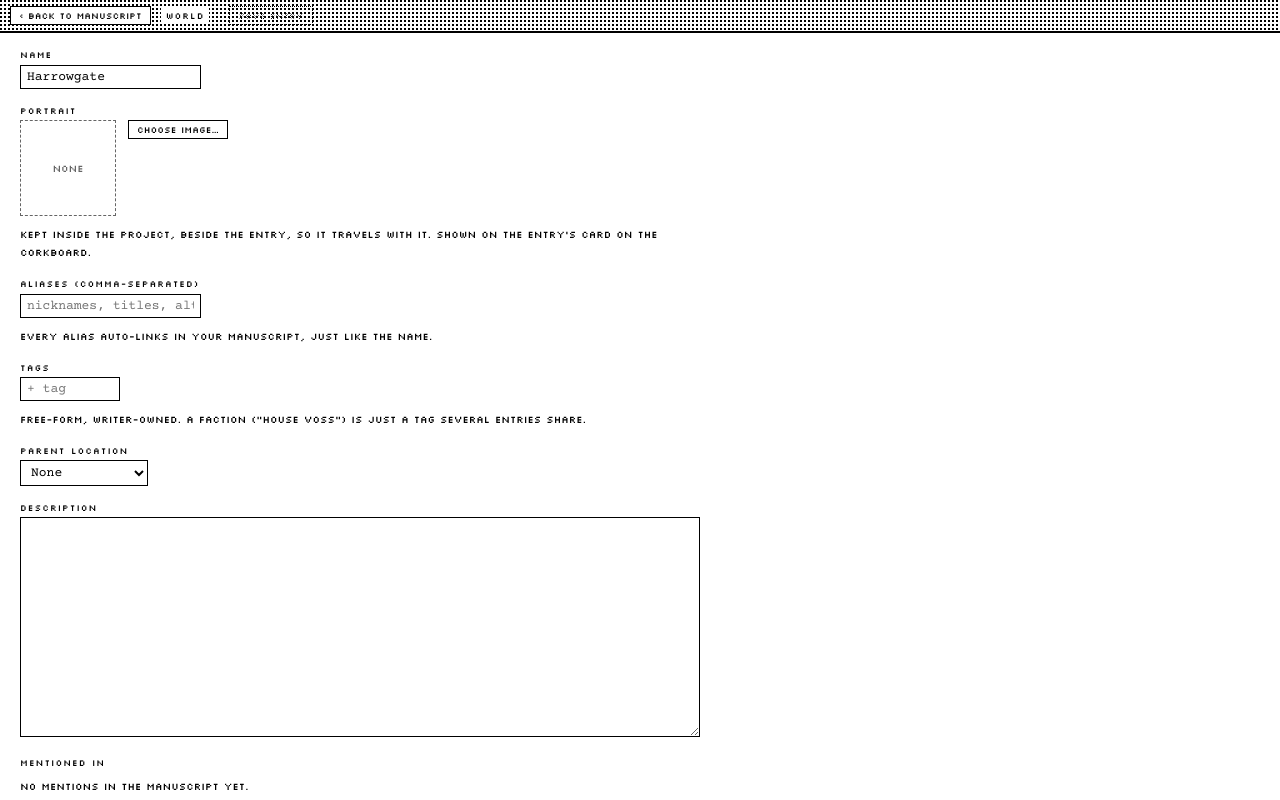
it: EntityEditor: parent location › shows a live breadcrumb preview as the parent dropdown changes
expect the text "Located in" is not shown: met
Select "Narrow Coast" in the dropdown showing "None" at [84, 473], box top-left (20, 460), bottom-right (148, 486)
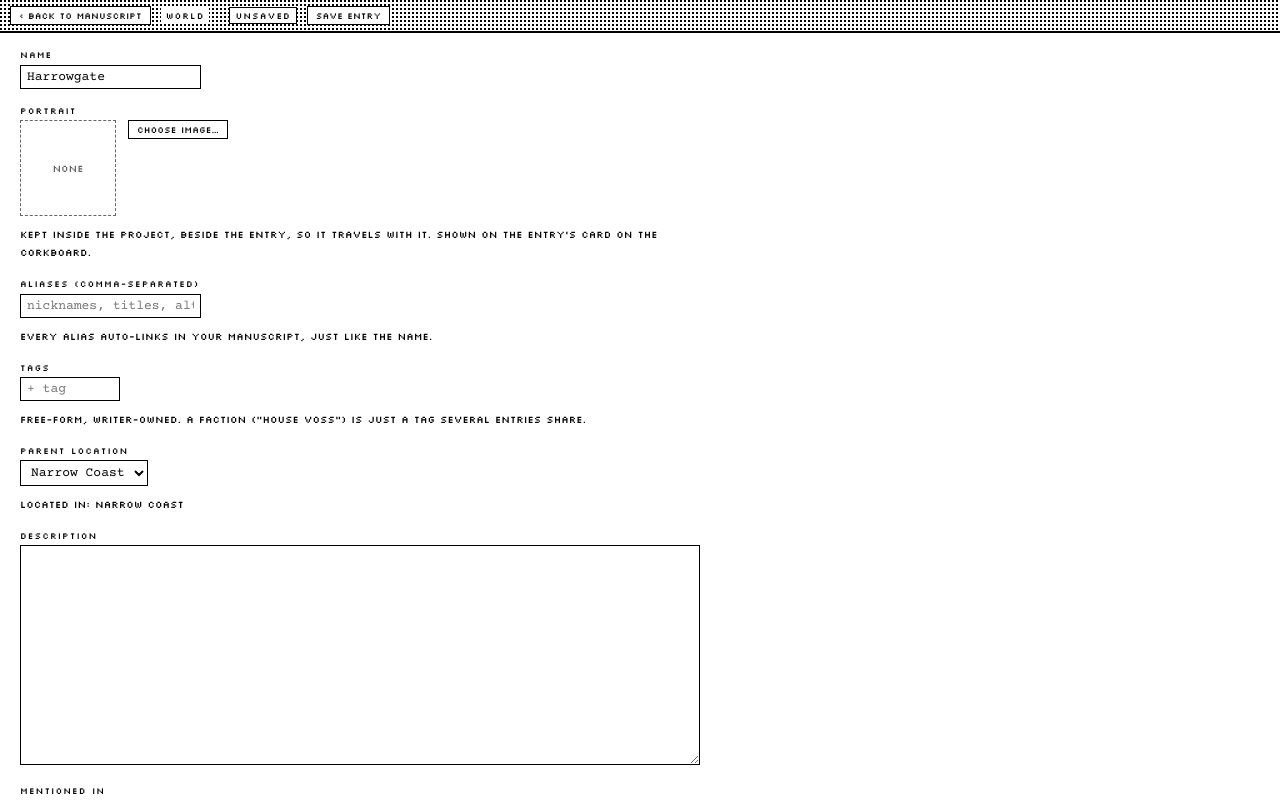
expect the text "Located in: Narrow Coast" is shown: met, box top-left (20, 498), bottom-right (184, 511)
